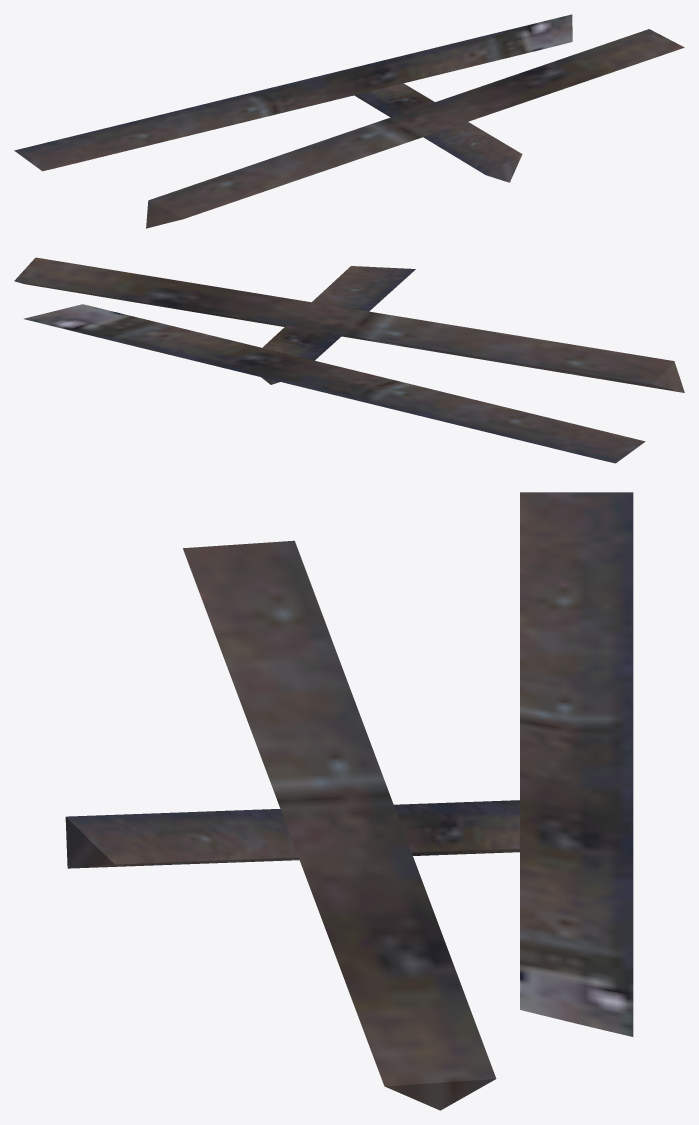
File: Civilian - Landmark - Tsing Ma Landmark Bridge - Damage State 03 - CMTsingMa_d03.glb
The picture shows the model from 3 angles, top to bottom: view 1: azimuth 30°, elevation 25°; view 2: azimuth 150°, elevation 25°; view 3: azimuth 270°, elevation 25°; orthographic projection. The views are drawn at different scales.
Parts seen in each view (by area): view 1: CMTSINGMA_D03; view 2: CMTSINGMA_D03; view 3: CMTSINGMA_D03.
Boxes of the visible parts, bbox=[...] form: CMTSINGMA_D03: bbox=[14, 14, 684, 228]; CMTSINGMA_D03: bbox=[14, 257, 684, 463]; CMTSINGMA_D03: bbox=[65, 492, 633, 1110].
Bounding box in the file's own units: 30.68 × 0.7339 × 12.39.
1 material, 1 textured.
